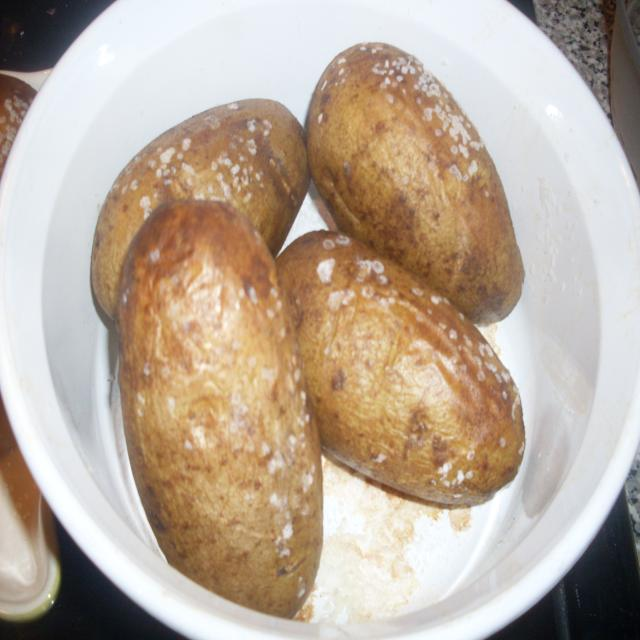potato: (118, 213, 326, 616), (296, 40, 530, 323), (285, 234, 524, 499)
